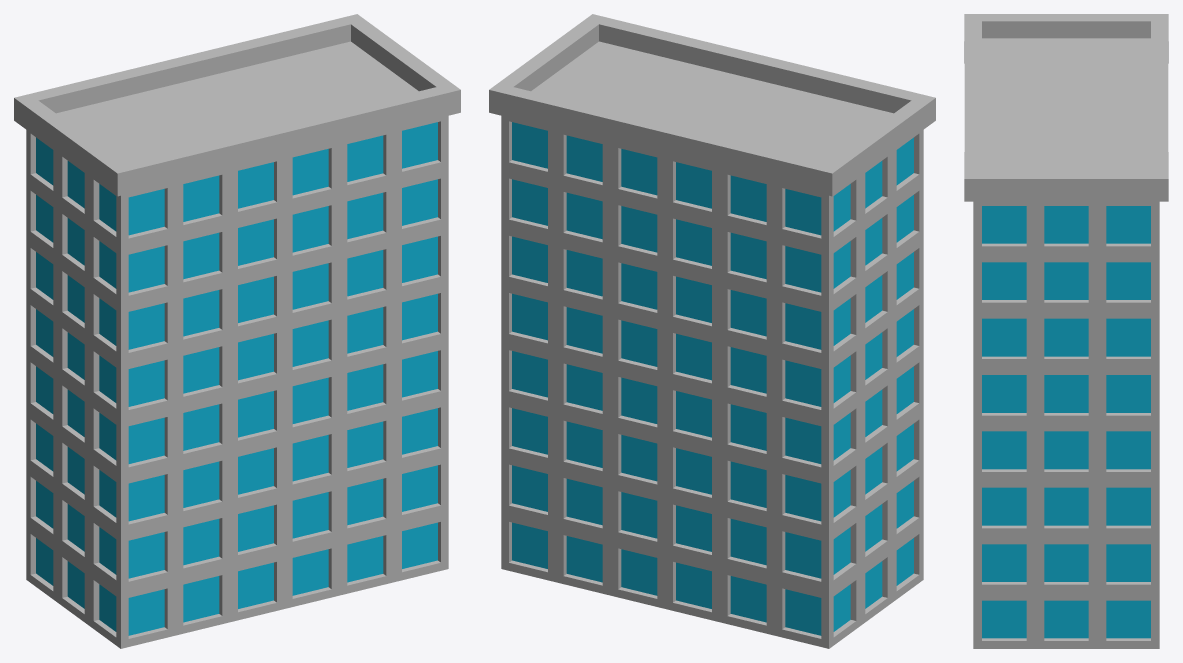
File: Building4.fbx
3 renders of one model, left to right at view 1: azimuth 30°, elevation 25°; view 2: azimuth 150°, elevation 25°; view 3: azimuth 270°, elevation 25°, orthographic.
Visible parts, largest first — view 1: Building4; view 2: Building4; view 3: Building4.
Boxes of the visible parts, x1,y1,x2,y2 form: Building4: [14, 14, 460, 648]; Building4: [489, 14, 935, 648]; Building4: [964, 14, 1168, 648].
Bounding box in the file's own units: 628 × 840 × 328.
